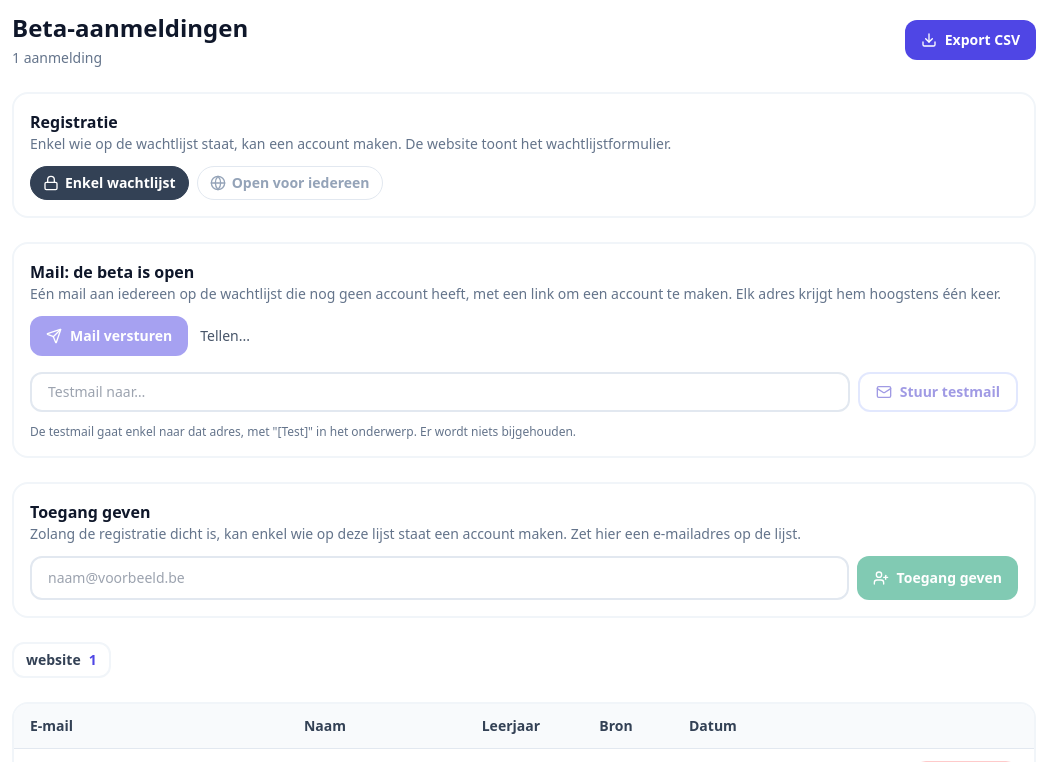
Test: AdminBetaSignups › Toegang geven › keeps the button disabled until a valid email is typed
Expected: the text "1 aanmelding" is shown, [12, 48, 102, 67]
Expected: the button "Toegang geven" is disabled, [857, 556, 1018, 600]
Type "geen-adres" into the field named "E-mailadres" at (439, 578), box [30, 556, 849, 600]
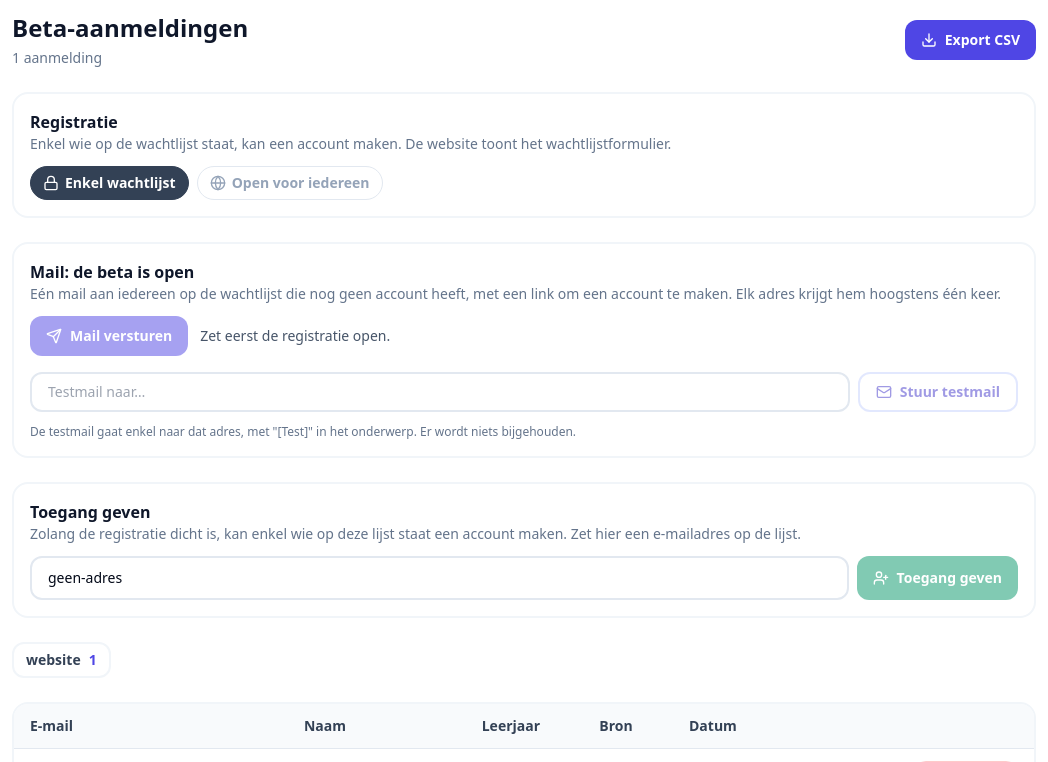
Expected: the button "Toegang geven" is disabled, [857, 556, 1018, 600]
Replace the text in the field named "E-mailadres" with "nieuw@example.test" at (439, 578), box [30, 556, 849, 600]
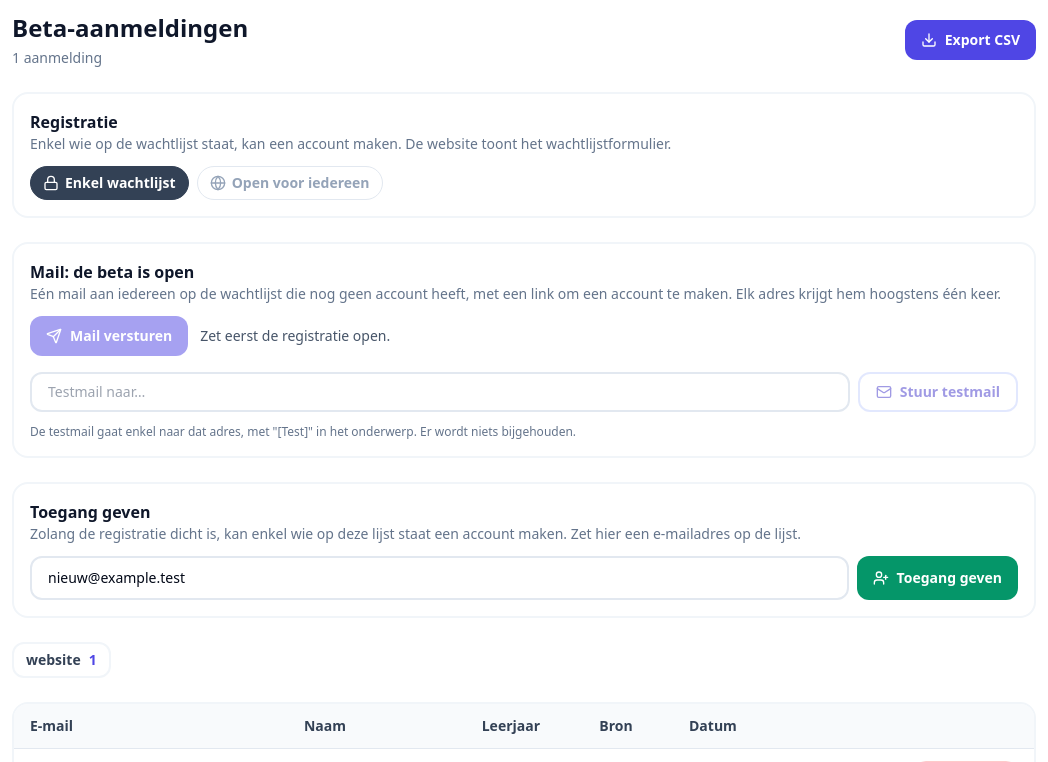
Expected: the button "Toegang geven" is enabled, [857, 556, 1018, 600]
